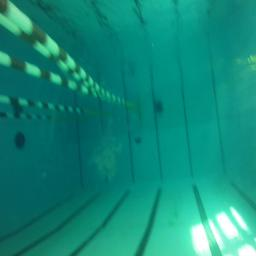Full: (153, 100, 165, 112), (134, 133, 141, 145)
